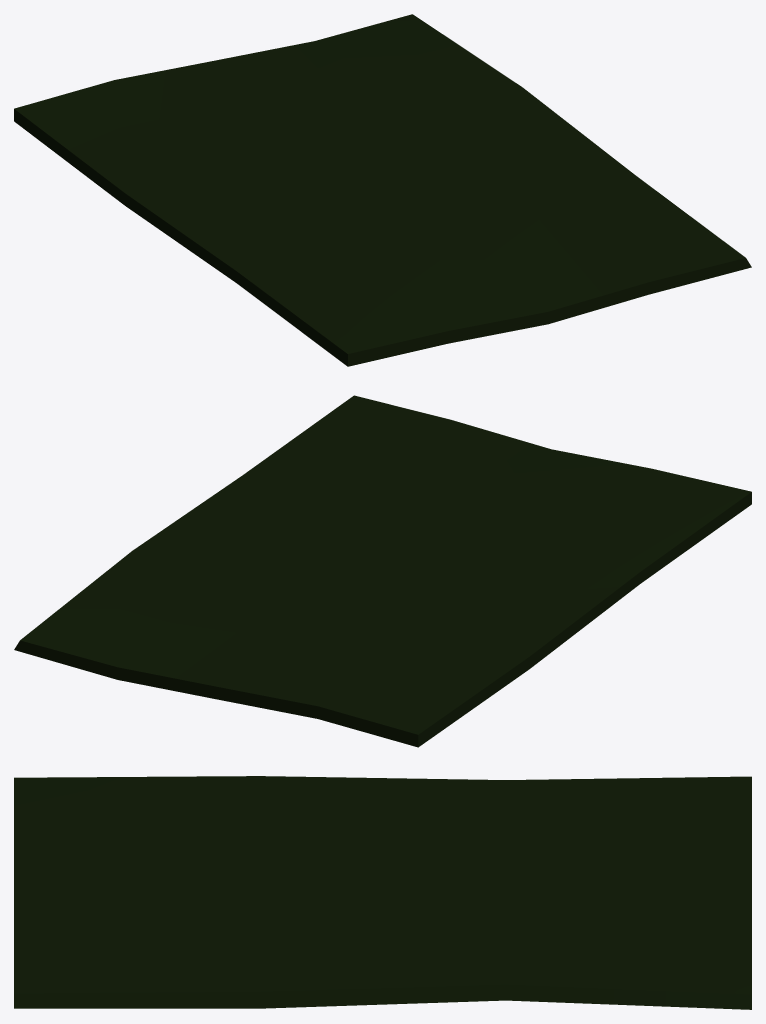
The model's file is sliced_nori.fbx.
The picture shows the model from 3 angles, top to bottom: view 1: azimuth 30°, elevation 25°; view 2: azimuth 150°, elevation 25°; view 3: azimuth 270°, elevation 25°; orthographic projection. The views are drawn at different scales.
Visible parts, largest first — view 1: SlicedNori; view 2: SlicedNori; view 3: SlicedNori.
Part boxes in pixels (left/top/right/bottom): SlicedNori: left=14, top=14, right=751, bottom=366; SlicedNori: left=14, top=395, right=751, bottom=747; SlicedNori: left=14, top=776, right=751, bottom=1009.
Bounding box in the file's own units: 90.55 × 7.27 × 129.
